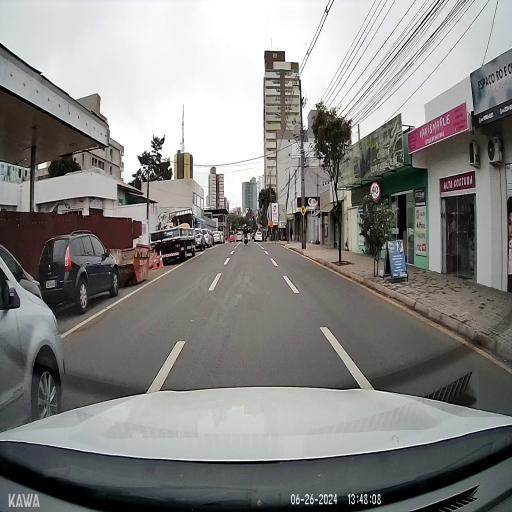A-14: (300, 205, 307, 216)
R-19: (370, 180, 380, 200)
